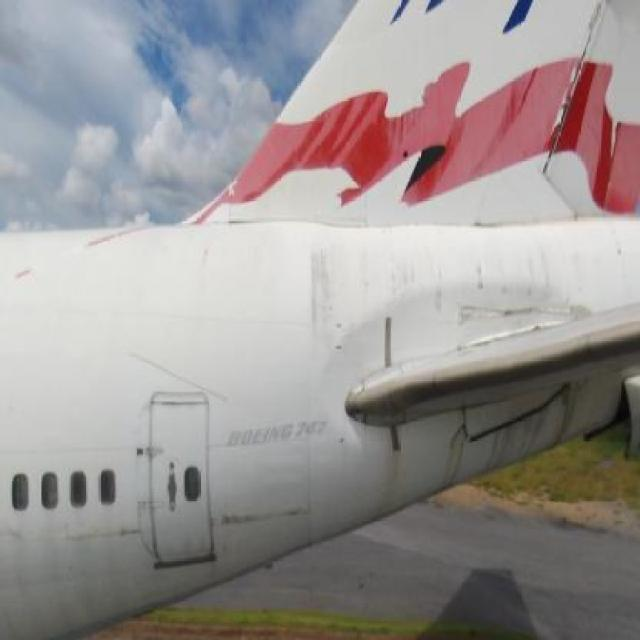Rust: (470, 381, 604, 467), (304, 225, 365, 362), (468, 235, 592, 299), (378, 230, 454, 328), (370, 424, 424, 513), (442, 408, 470, 494), (214, 502, 264, 541), (277, 494, 314, 532), (109, 516, 146, 550)
Scartch: (459, 298, 573, 322)
